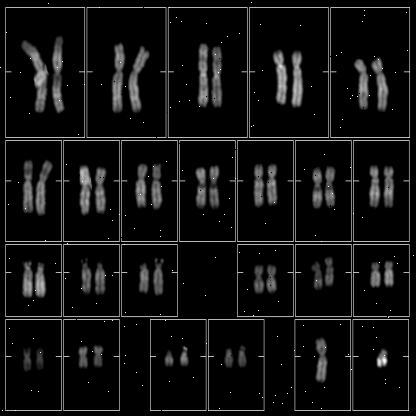1: (20, 34, 51, 117), (49, 33, 69, 117)
10: (250, 158, 268, 211), (266, 158, 284, 211)
11: (310, 163, 324, 218), (324, 164, 338, 219)
12: (366, 157, 382, 216), (381, 157, 396, 216)
13: (20, 256, 34, 300), (34, 256, 48, 300)
14: (79, 252, 93, 300), (93, 252, 107, 300)
15: (138, 256, 152, 296), (151, 256, 165, 296)
16: (251, 258, 268, 300), (265, 258, 281, 300)
17: (309, 252, 324, 300), (323, 252, 338, 300)
18: (382, 256, 396, 296), (369, 256, 382, 296)
19: (18, 339, 34, 380), (34, 340, 50, 381)
2: (126, 38, 150, 116), (111, 38, 126, 118)
20: (90, 340, 104, 372), (76, 341, 89, 373)
21: (163, 342, 177, 376), (178, 342, 192, 376)
22: (222, 341, 236, 374), (236, 341, 250, 374)
3: (196, 36, 210, 112), (210, 36, 224, 112)
4: (288, 43, 308, 109), (271, 44, 290, 110)
5: (353, 53, 372, 108), (371, 53, 390, 108)
6: (34, 154, 53, 218), (18, 152, 36, 218)
7: (74, 160, 94, 221), (92, 160, 112, 220)
8: (132, 156, 150, 220), (150, 156, 168, 220)
9: (194, 158, 209, 216), (208, 160, 223, 216)
X: (312, 332, 330, 388)
Y: (374, 338, 390, 376)
